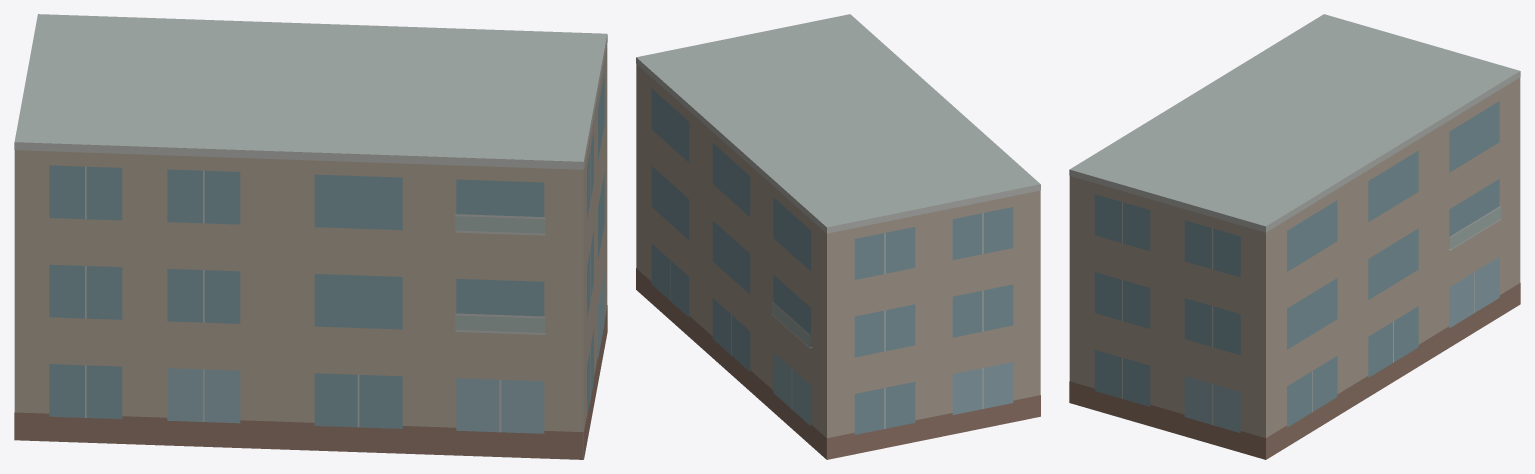
File: survey-upis-32706671.glb
3 views of the same model, side by side, from view 1: azimuth 30°, elevation 25°; view 2: azimuth 150°, elevation 25°; view 3: azimuth 270°, elevation 25° (orthographic). The views are drawn at different scales.
Visible parts, largest first — view 1: survey-upis-32706671.tmp; view 2: survey-upis-32706671.tmp; view 3: survey-upis-32706671.tmp.
Part boxes in pixels (x1,y1,x2,y2): survey-upis-32706671.tmp: (14,14,607,459); survey-upis-32706671.tmp: (636,14,1040,459); survey-upis-32706671.tmp: (1069,14,1520,459).
Size of the model in its own units: 17.87 by 9.15 by 16.03.
